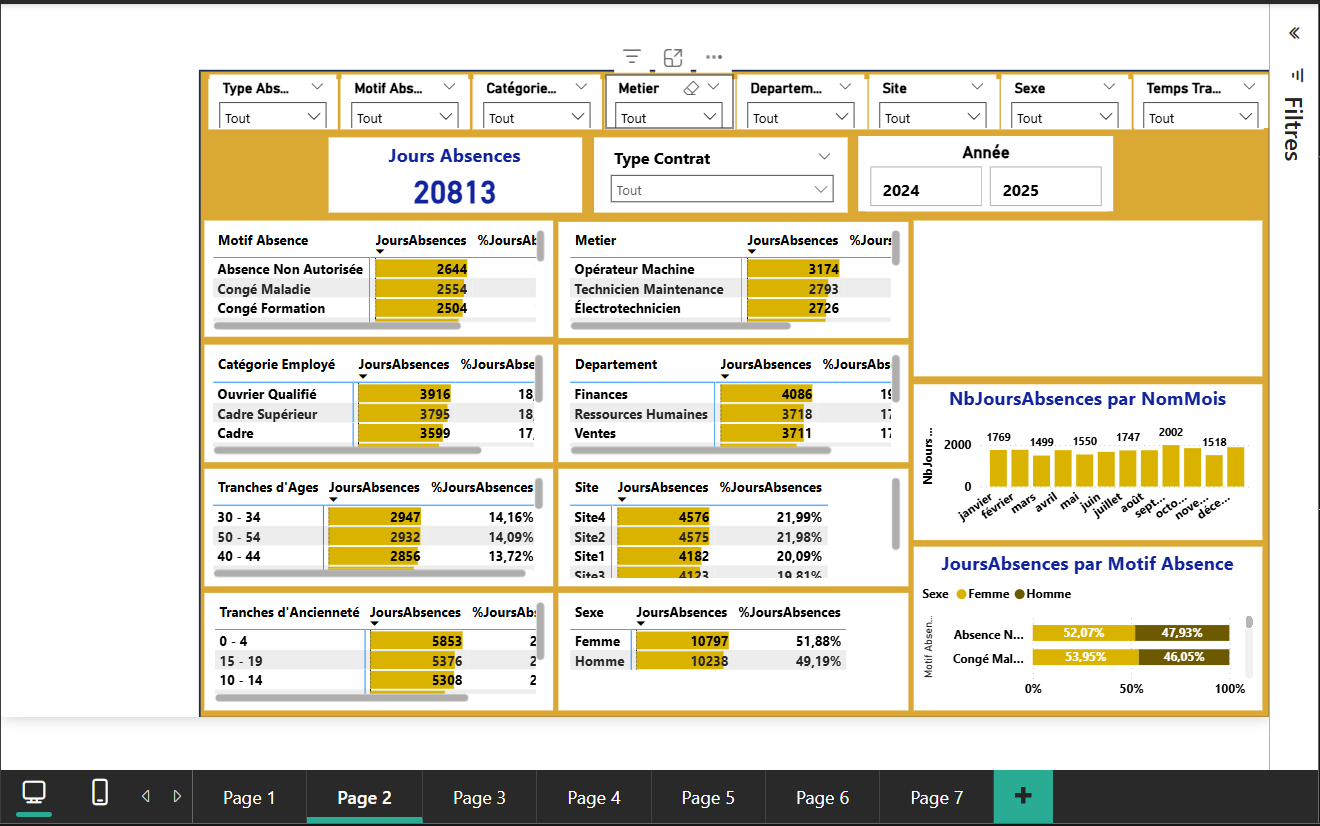

The page's visual inventory and layout, read from the dashboard file:
{"tool":"powerbi","page":{"name":"Page 2","canvas":[1280,720],"ordinal":1},"visuals":[{"type":"pivotTable","fields":{"Values":["Mesures.NbJoursAbsences","Divide(Mesures.NbJoursAbsences, ScopedEval(Mesures.NbJoursAbsences, [Role.Columns]))"],"Rows":["Motif Absence.Motif Absence"]},"box":[209.3,222.1,345.1,111.8],"z":0},{"type":"pivotTable","fields":{"Values":["Mesures.NbJoursAbsences","Divide(Mesures.NbJoursAbsences, ScopedEval(Mesures.NbJoursAbsences, [Role.Columns]))"],"Rows":["Employé.Metier"]},"box":[568.8,222.1,343.5,111.8],"z":1000},{"type":"pivotTable","fields":{"Values":["Mesures.NbJoursAbsences","Divide(Mesures.NbJoursAbsences, ScopedEval(Mesures.NbJoursAbsences, [Role.Columns]))"],"Rows":["Employé.Catégorie Employé"]},"box":[209.3,348.3,343.5,111.8],"z":2000},{"type":"pivotTable","fields":{"Values":["Mesures.NbJoursAbsences","Divide(Mesures.NbJoursAbsences, ScopedEval(Mesures.NbJoursAbsences, [Role.Columns]))"],"Rows":["Département.Departement"]},"box":[568.8,348.3,343.5,111.8],"z":3000},{"type":"pivotTable","fields":{"Values":["Mesures.NbJoursAbsences","Divide(Mesures.NbJoursAbsences, ScopedEval(Mesures.NbJoursAbsences, [Role.Columns]))"],"Rows":["Employé.Tranches d'Ages"]},"box":[209.3,472.9,343.5,111.8],"z":4000},{"type":"pivotTable","fields":{"Values":["Mesures.NbJoursAbsences","Divide(Mesures.NbJoursAbsences, ScopedEval(Mesures.NbJoursAbsences, [Role.Columns]))"],"Rows":["Employé.Site"]},"box":[568.8,472.9,343.5,111.8],"z":5000},{"type":"pivotTable","fields":{"Values":["Mesures.NbJoursAbsences","Divide(Mesures.NbJoursAbsences, ScopedEval(Mesures.NbJoursAbsences, [Role.Columns]))"],"Rows":["Employé.Tranches d'Ancienneté"]},"box":[210.9,597.5,343.5,111.8],"z":6000},{"type":"pivotTable","fields":{"Values":["Mesures.NbJoursAbsences","Divide(Mesures.NbJoursAbsences, ScopedEval(Mesures.NbJoursAbsences, [Role.Columns]))"],"Rows":["Employé.Sexe"]},"box":[568.8,597.5,343.5,111.8],"z":7000},{"type":"slicer","fields":{"Values":["Motif Absence.Type Absence"]},"box":[210.9,71.9,127.8,54.3],"z":8000},{"type":"slicer","fields":{"Values":["Motif Absence.Motif Absence"]},"box":[344.2,71.9,127.8,54.3],"z":9000},{"type":"slicer","fields":{"Values":["Employé.Catégorie Employé"]},"box":[477.5,71.9,127.8,54.3],"z":10000},{"type":"slicer","fields":{"Values":["Employé.Metier"]},"box":[610.8,71.9,127.8,54.3],"z":11000},{"type":"slicer","fields":{"Values":["Département.Departement"]},"box":[744.1,71.9,127.8,54.3],"z":12000},{"type":"slicer","fields":{"Values":["Sites.Site"]},"box":[877.3,71.9,127.8,54.3],"z":13000},{"type":"slicer","fields":{"Values":["Employé.Sexe"]},"box":[1010.6,71.9,127.8,54.3],"z":14000},{"type":"slicer","fields":{"Values":["Employé.Temps Travail"]},"box":[1143.9,71.9,135.8,54.3],"z":15000},{"type":"card","title":"Jours Absences","fields":{"Values":["Mesures.NbJoursAbsences"]},"box":[332.3,139,252.4,70.3],"z":16000},{"type":"slicer","fields":{"Values":["Employé.Type Contrat"]},"box":[605.5,139,244.4,70.3],"z":17000},{"type":"advancedSlicerVisual","fields":{"Values":["TableDates.Année"]},"box":[872.3,139,244.4,70.3],"z":18000},{"type":"hundredPercentStackedBarChart","title":"JoursAbsences par Motif Absence ","fields":{"Category":["Motif Absence.Motif Absence"],"Y":["Mesures.NbJoursAbsences"],"Series":["Employé.Sexe"]},"box":[925.1,551.2,343.5,158.2],"z":19000},{"type":"clusteredColumnChart","fields":{"Y":["Mesures.NbJoursAbsences"],"Category":["TableDates.NomMois"]},"box":[925.1,385,343.5,150.2],"z":20000}]}

Visuals, with their boxes on the page's 1280x720 design canvas (x1, y1, x2, y2). These are canvas units, not pixel positions in the 1320x826 screenshot, which may show the page scaled, cropped or inside an application window:
pivotTable - Mesures.NbJoursAbsences x Divide(Mesures.NbJoursAbsences, ScopedEval(Mesures.NbJoursAbsences, [Role.Columns])): <region>209, 222, 554, 334</region>
pivotTable - Mesures.NbJoursAbsences x Divide(Mesures.NbJoursAbsences, ScopedEval(Mesures.NbJoursAbsences, [Role.Columns])): <region>569, 222, 912, 334</region>
pivotTable - Mesures.NbJoursAbsences x Divide(Mesures.NbJoursAbsences, ScopedEval(Mesures.NbJoursAbsences, [Role.Columns])): <region>209, 348, 553, 460</region>
pivotTable - Mesures.NbJoursAbsences x Divide(Mesures.NbJoursAbsences, ScopedEval(Mesures.NbJoursAbsences, [Role.Columns])): <region>569, 348, 912, 460</region>
pivotTable - Mesures.NbJoursAbsences x Divide(Mesures.NbJoursAbsences, ScopedEval(Mesures.NbJoursAbsences, [Role.Columns])): <region>209, 473, 553, 585</region>
pivotTable - Mesures.NbJoursAbsences x Divide(Mesures.NbJoursAbsences, ScopedEval(Mesures.NbJoursAbsences, [Role.Columns])): <region>569, 473, 912, 585</region>
pivotTable - Mesures.NbJoursAbsences x Divide(Mesures.NbJoursAbsences, ScopedEval(Mesures.NbJoursAbsences, [Role.Columns])): <region>211, 598, 554, 709</region>
pivotTable - Mesures.NbJoursAbsences x Divide(Mesures.NbJoursAbsences, ScopedEval(Mesures.NbJoursAbsences, [Role.Columns])): <region>569, 598, 912, 709</region>
slicer - Motif Absence.Type Absence: <region>211, 72, 339, 126</region>
slicer - Motif Absence.Motif Absence: <region>344, 72, 472, 126</region>
slicer - Employé.Catégorie Employé: <region>478, 72, 605, 126</region>
slicer - Employé.Metier: <region>611, 72, 739, 126</region>
slicer - Département.Departement: <region>744, 72, 872, 126</region>
slicer - Sites.Site: <region>877, 72, 1005, 126</region>
slicer - Employé.Sexe: <region>1011, 72, 1138, 126</region>
slicer - Employé.Temps Travail: <region>1144, 72, 1280, 126</region>
"Jours Absences" card: <region>332, 139, 585, 209</region>
slicer - Employé.Type Contrat: <region>606, 139, 850, 209</region>
advancedSlicerVisual - TableDates.Année: <region>872, 139, 1117, 209</region>
"JoursAbsences par Motif Absence " hundredPercentStackedBarChart: <region>925, 551, 1269, 709</region>
clusteredColumnChart - Mesures.NbJoursAbsences x TableDates.NomMois: <region>925, 385, 1269, 535</region>
